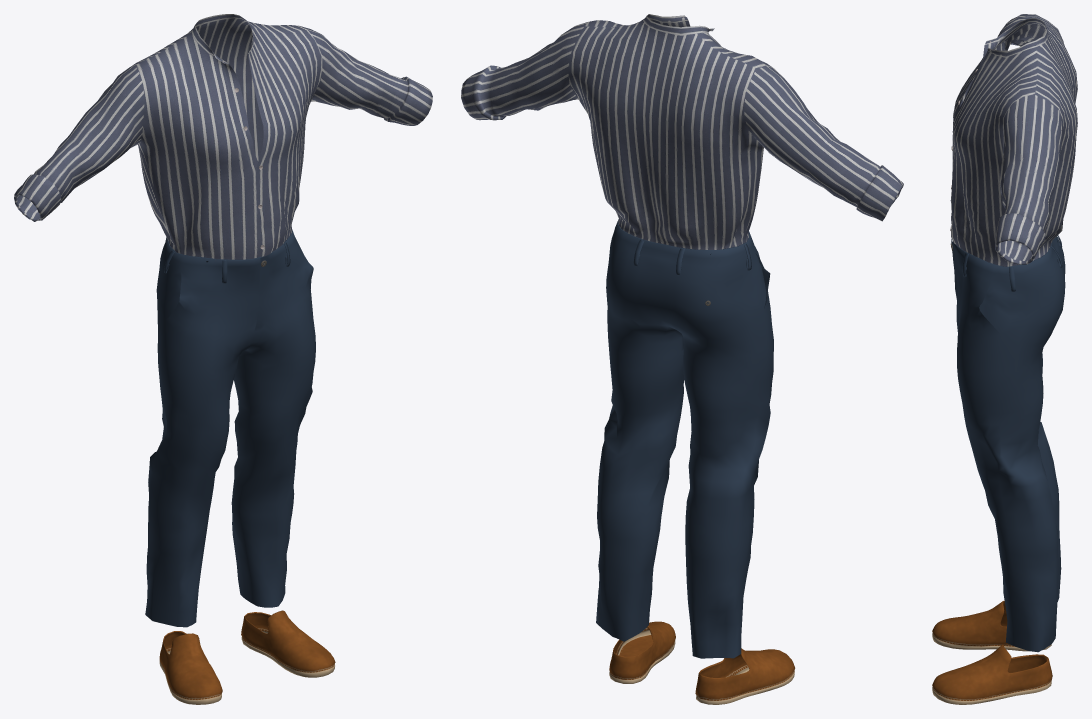
File: male_formal_outfit.glb
The picture shows the model from 3 angles, left to right: view 1: azimuth 30°, elevation 25°; view 2: azimuth 150°, elevation 25°; view 3: azimuth 270°, elevation 25°; orthographic projection. The views are drawn at different scales.
Visible parts, largest first — view 1: Shirt_low_Circle, Pant_low_Cube.001, Show_low_Plane.001; view 2: Pant_low_Cube.001, Shirt_low_Circle, Show_low_Plane.001; view 3: Pant_low_Cube.001, Shirt_low_Circle, Show_low_Plane.001, Buttons_and_belt_holders.001.
Boxes of the visible parts, <box> form: Shirt_low_Circle: <box>14,14,432,260</box>; Pant_low_Cube.001: <box>145,229,315,627</box>; Show_low_Plane.001: <box>159,610,335,704</box>; Pant_low_Cube.001: <box>596,219,773,658</box>; Shirt_low_Circle: <box>461,14,903,249</box>; Show_low_Plane.001: <box>609,621,795,704</box>; Pant_low_Cube.001: <box>951,236,1065,652</box>; Shirt_low_Circle: <box>950,14,1077,266</box>; Show_low_Plane.001: <box>932,600,1052,704</box>; Buttons_and_belt_holders.001: <box>950,235,1062,291</box>.
Size of the model in its own units: 1.12 by 1.65 by 0.3419.
3 materials, 3 textured.
